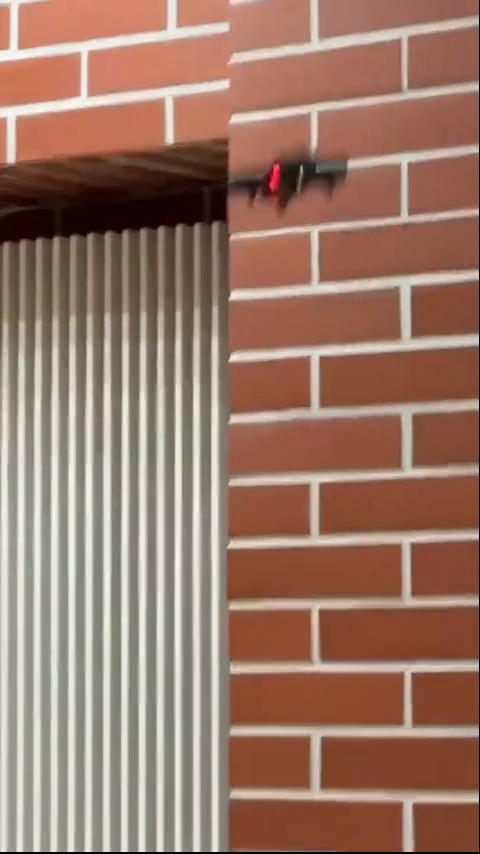drone: (225, 153, 359, 214)
